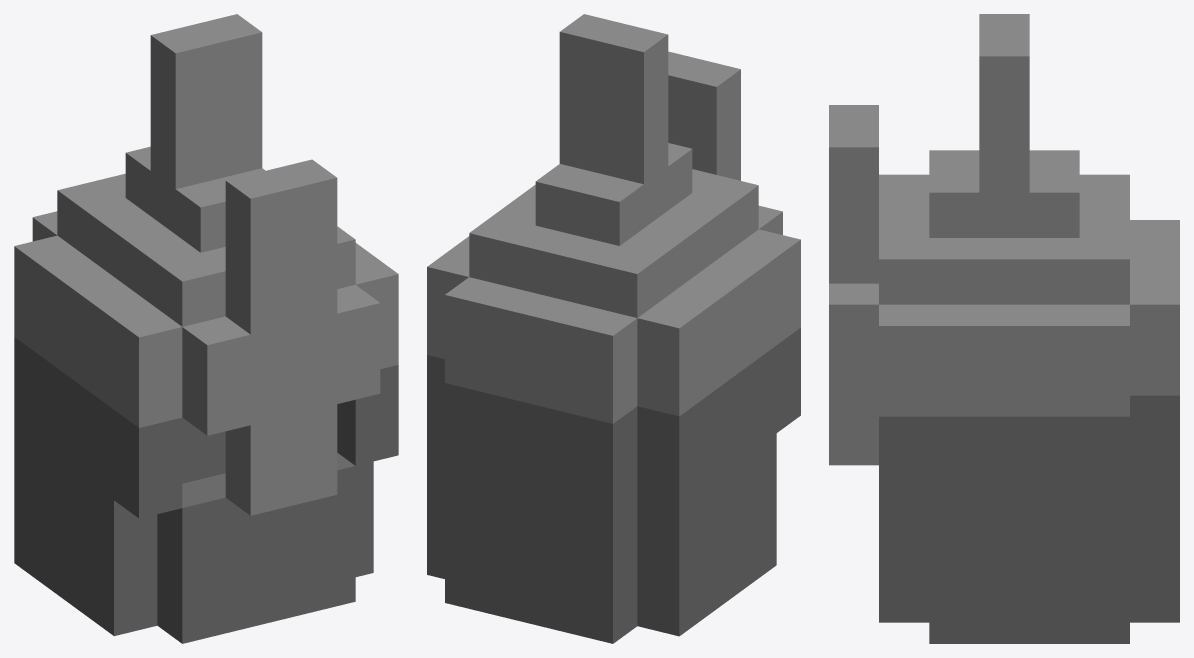
The model's file is character-150-helm_hvy_1c_sh.obj.
The picture shows the model from 3 angles, left to right: view 1: azimuth 30°, elevation 25°; view 2: azimuth 150°, elevation 25°; view 3: azimuth 270°, elevation 25°; orthographic projection. The views are drawn at different scales.
Parts seen in each view (by area): view 1: helm_hvy_1c_sh; view 2: helm_hvy_1c_sh; view 3: helm_hvy_1c_sh.
Boxes of the visible parts, <box> form: helm_hvy_1c_sh: <box>14,14,398,643</box>; helm_hvy_1c_sh: <box>427,14,800,643</box>; helm_hvy_1c_sh: <box>829,14,1179,643</box>.
Size of the model in its own units: 0.6 by 1.2 by 0.7.
1 material, 1 textured.
